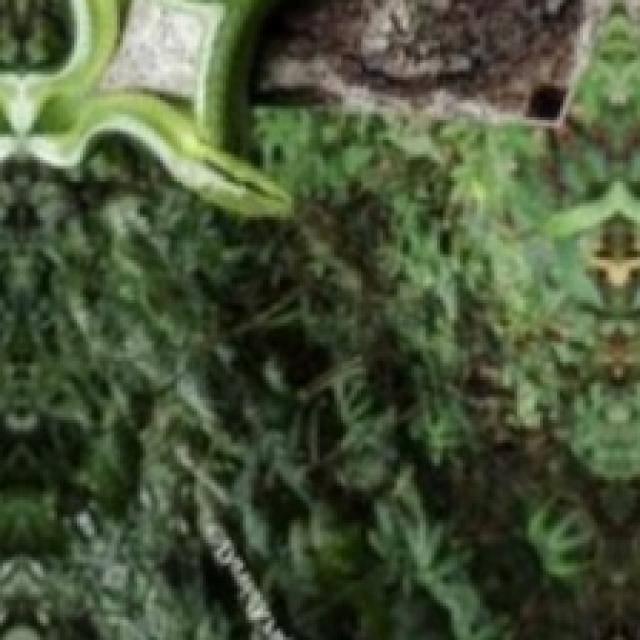red-tailed green ratsnake: (0, 0, 291, 218)
